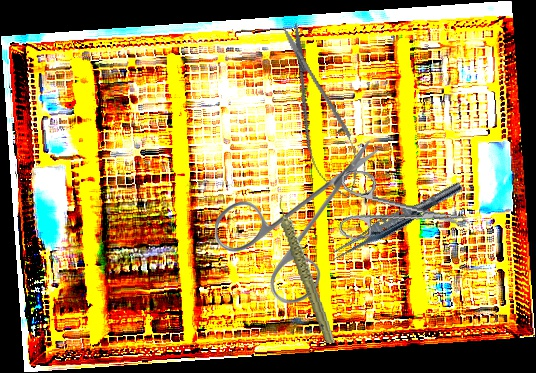Handpiece: (276, 192, 337, 347)
Iris Scissors: (215, 140, 378, 304), (332, 168, 473, 258)
Micro Scissor: (267, 17, 371, 206)
Tissue Forceps: (326, 176, 465, 267)
